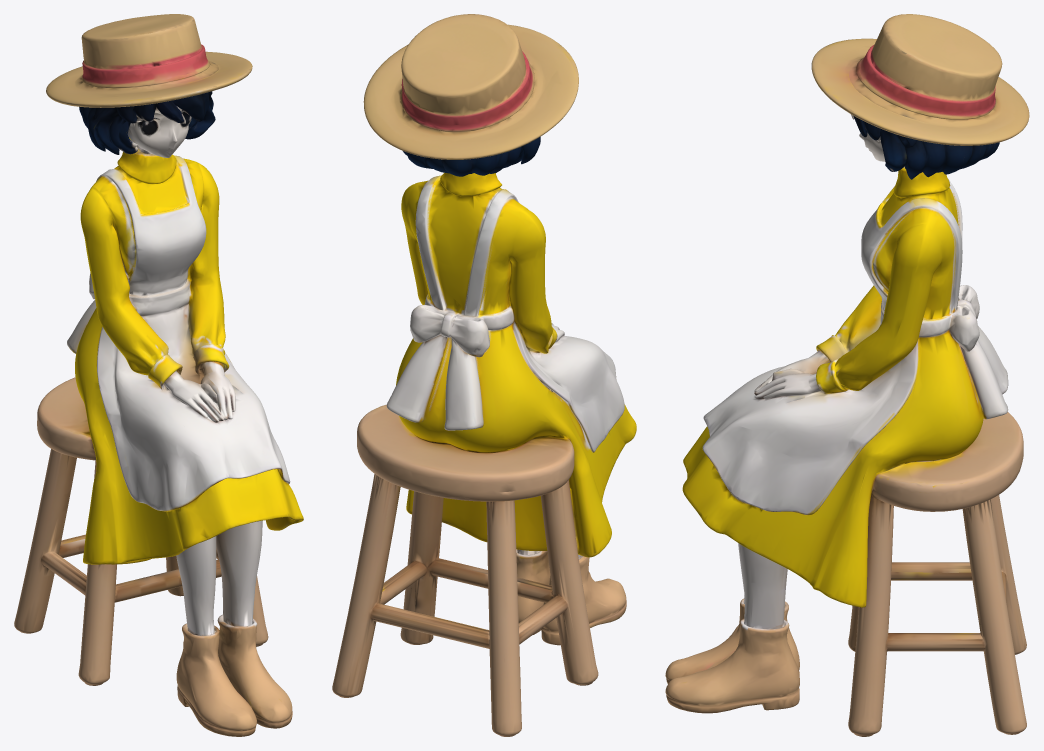
The model's file is user_static_seated_2k.glb.
The picture shows the model from 3 angles, left to right: view 1: azimuth 30°, elevation 25°; view 2: azimuth 150°, elevation 25°; view 3: azimuth 270°, elevation 25°; orthographic projection. The views are drawn at different scales.
Visible parts, largest first — view 1: node_0; view 2: node_0; view 3: node_0.
Part boxes in pixels (x1,y1,x2,y2): node_0: (14,14,303,736); node_0: (332,14,636,736); node_0: (665,14,1029,736).
Bounding box in the file's own units: 0.3394 × 1.06 × 0.5249.
1 material, 1 textured.
